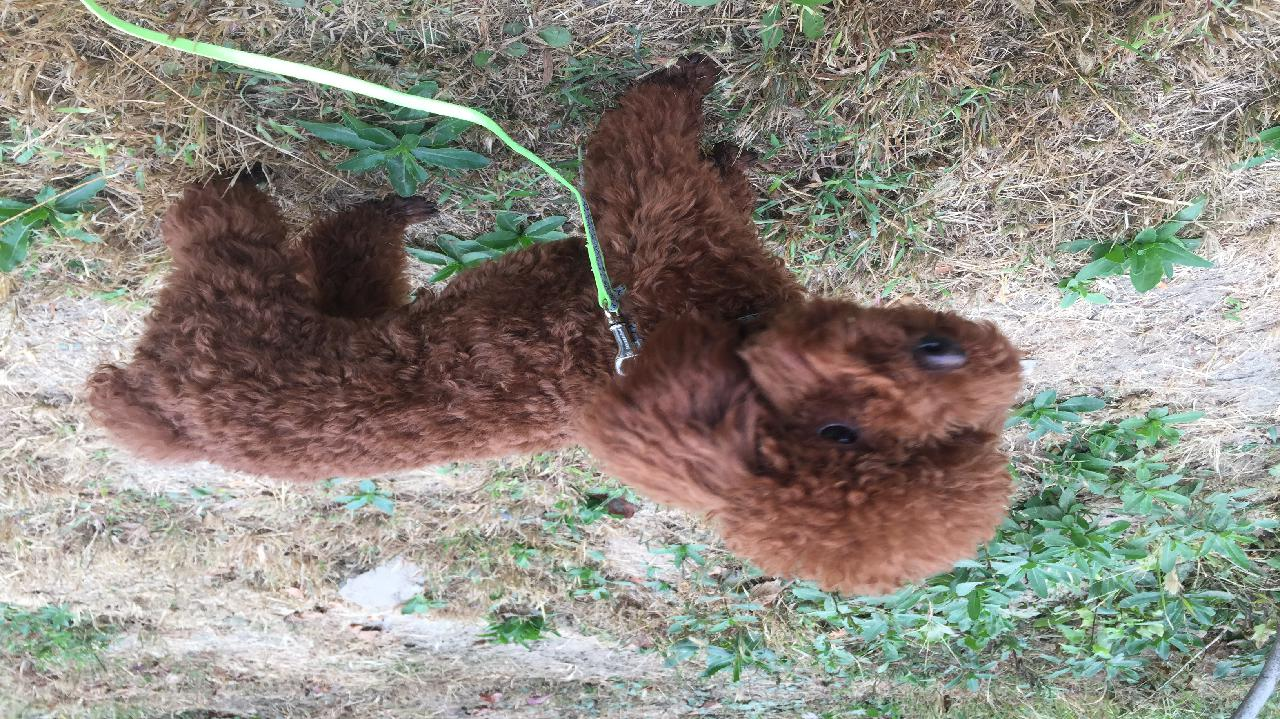zhuangzhuang: (132, 53, 1040, 605)
